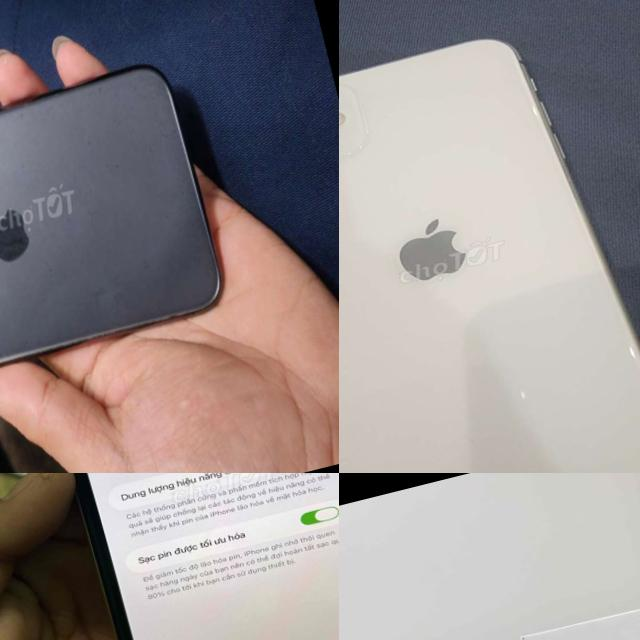gen_11: (339, 6, 640, 473), (0, 57, 243, 408), (9, 473, 339, 640)
